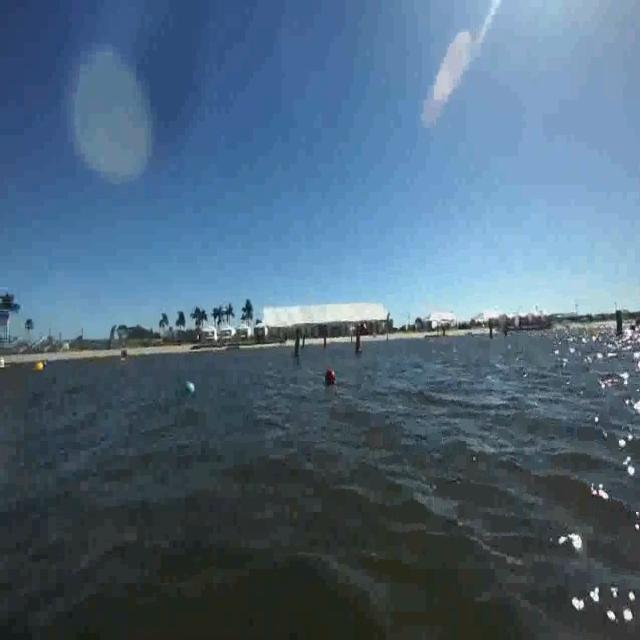green-buoy: (174, 373, 195, 397)
red-buoy: (328, 368, 338, 382)
yellow-buoy: (35, 358, 45, 372)
